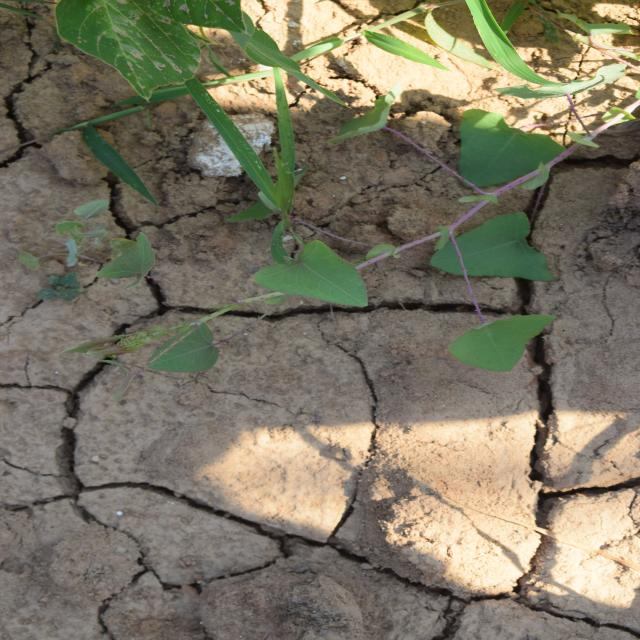Asiatic_Smartweed: (256, 226, 443, 549), (256, 78, 416, 255)
